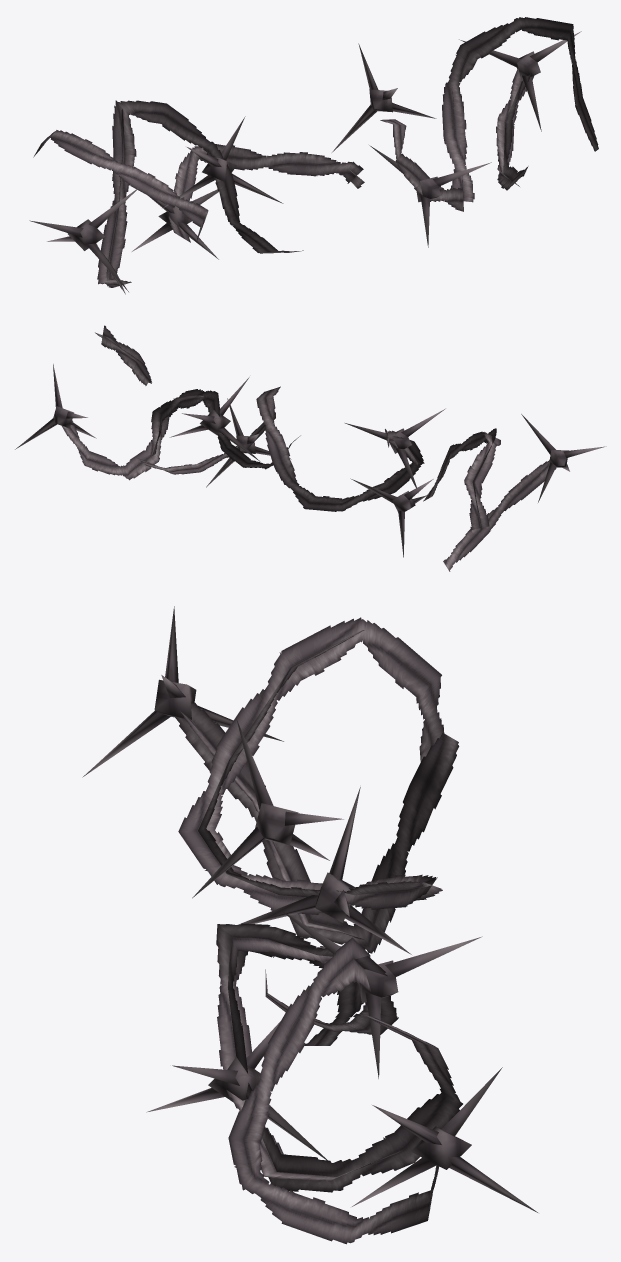
Rendered from barbwire_x3.glb.
The picture shows the model from 3 angles, top to bottom: view 1: azimuth 30°, elevation 25°; view 2: azimuth 150°, elevation 25°; view 3: azimuth 270°, elevation 25°; orthographic projection. The views are drawn at different scales.
Visible parts, largest first — view 1: battlefield.barbwire_x3-Mesh[1], battlefield.barbwire_x3-Mesh[0]; view 2: battlefield.barbwire_x3-Mesh[1], battlefield.barbwire_x3-Mesh[0]; view 3: battlefield.barbwire_x3-Mesh[1], battlefield.barbwire_x3-Mesh[0].
Part boxes in pixels (x1,y1,x2,y2): battlefield.barbwire_x3-Mesh[1]: (33, 17, 598, 294); battlefield.barbwire_x3-Mesh[0]: (29, 31, 581, 291); battlefield.barbwire_x3-Mesh[1]: (61, 325, 556, 571); battlefield.barbwire_x3-Mesh[0]: (15, 364, 606, 557); battlefield.barbwire_x3-Mesh[1]: (175, 617, 462, 1244); battlefield.barbwire_x3-Mesh[0]: (82, 606, 537, 1212).
Size of the model in its own units: 3.65 by 1.04 by 1.43.
Materials: 1 (1 with a texture image).
